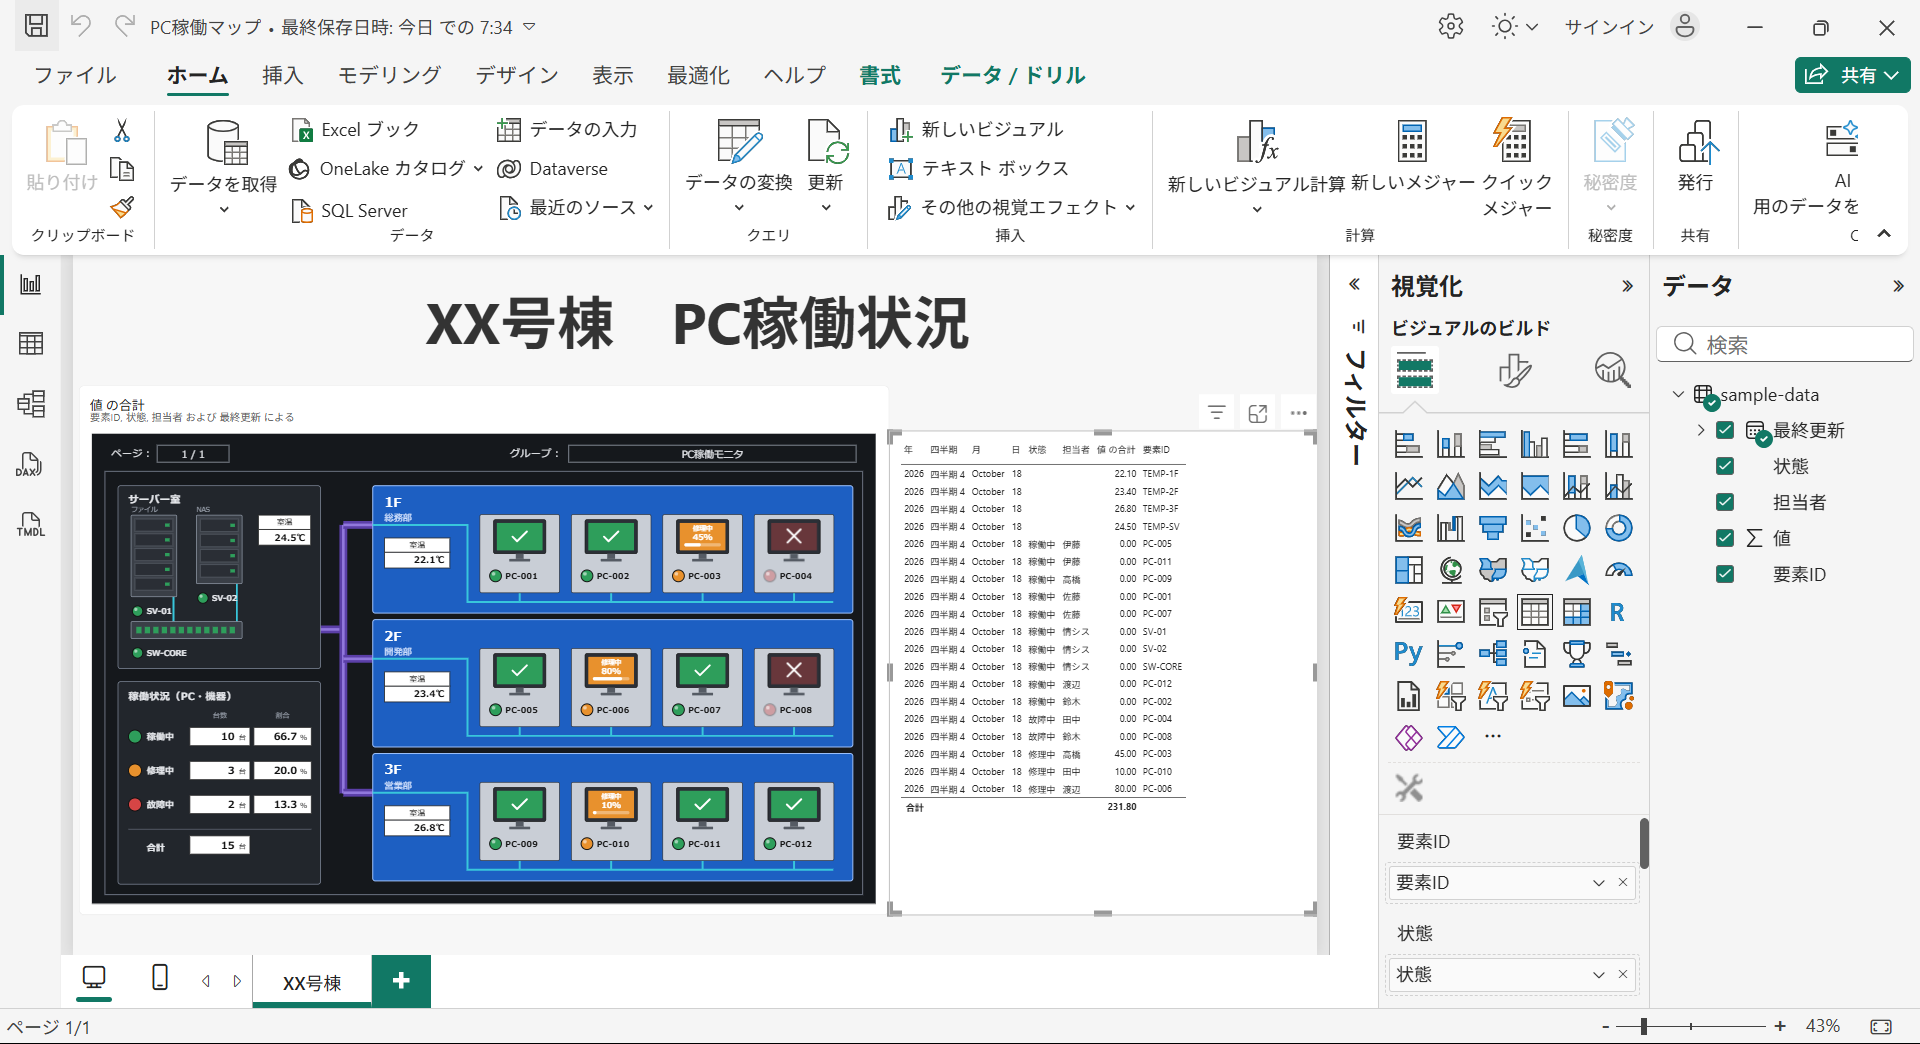

Layout of this report page (visuals, bound fields, positions):
{"tool":"powerbi","page":{"name":"XX号棟","canvas":[1920,1080],"ordinal":0},"visuals":[{"type":"tableEx","fields":{"Values":["sample-data.最終更新","sample-data.状態","sample-data.担当者","Sum(sample-data.値)","sample-data.要素ID"]},"box":[1259,270.8,661.9,747.5],"z":1000},{"type":"textbox","title":"XXX号室の","box":[6.9,34.7,1914,166.6],"z":2000},{"type":"svgmapchartA6D0CE1A94FC42B8B29371FF8957B201","fields":{"itemId":["sample-data.要素ID"],"status":["sample-data.状態"],"value":["Sum(sample-data.値)"],"tooltips":["sample-data.担当者","sample-data.最終更新"]},"box":[7,271,1252,748],"z":2001}]}

Visuals, with their boxes on the page's 1920x1080 design canvas (x1, y1, x2, y2). These are canvas units, not pixel positions in the 1920x1044 screenshot, which may show the page scaled, cropped or inside an application window:
tableEx - sample-data.最終更新 x sample-data.状態: locate(1259, 271, 1921, 1018)
"XXX号室の" textbox: locate(7, 35, 1921, 201)
svgmapchartA6D0CE1A94FC42B8B29371FF8957B201 - sample-data.要素ID x sample-data.状態: locate(7, 271, 1259, 1019)
